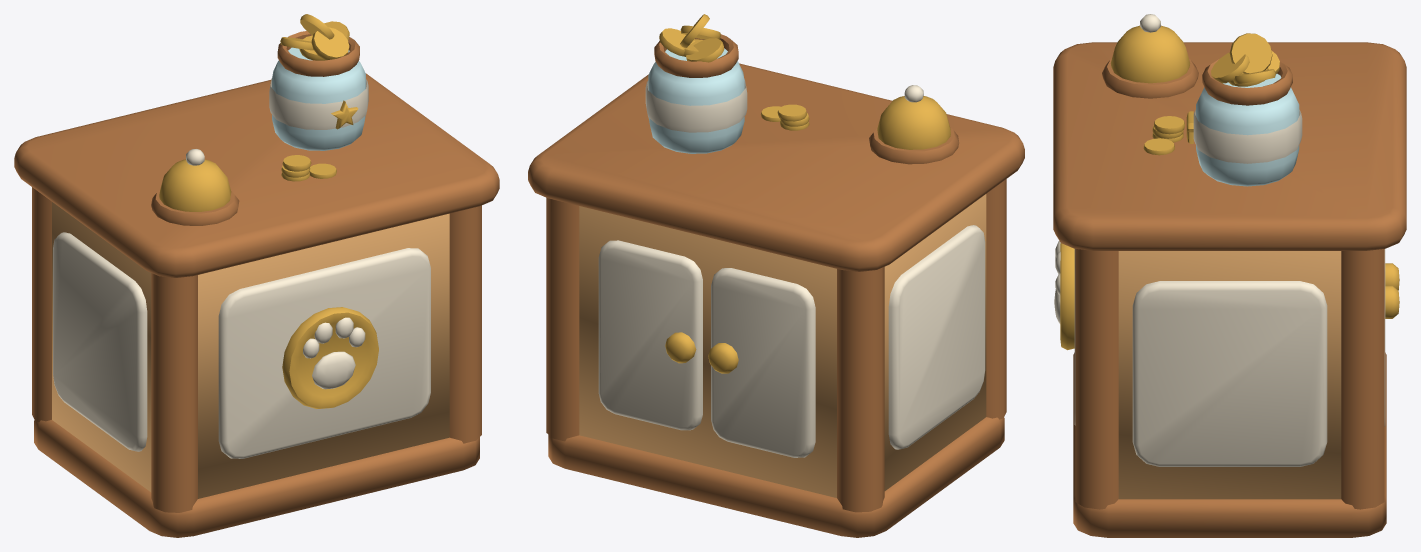
The model's file is ShopCounterExt.fbx.
3 renders of one model, left to right at view 1: azimuth 30°, elevation 25°; view 2: azimuth 150°, elevation 25°; view 3: azimuth 270°, elevation 25°, orthographic. The views are drawn at different scales.
Visible parts, largest first — view 1: ShopCounterExt; view 2: ShopCounterExt; view 3: ShopCounterExt.
Boxes of the visible parts, x1,y1,x2,y2 form: ShopCounterExt: (14,14,499,537); ShopCounterExt: (528,14,1024,537); ShopCounterExt: (1053,14,1406,537).
Size of the model in its own units: 1 by 1.13 by 0.8.
